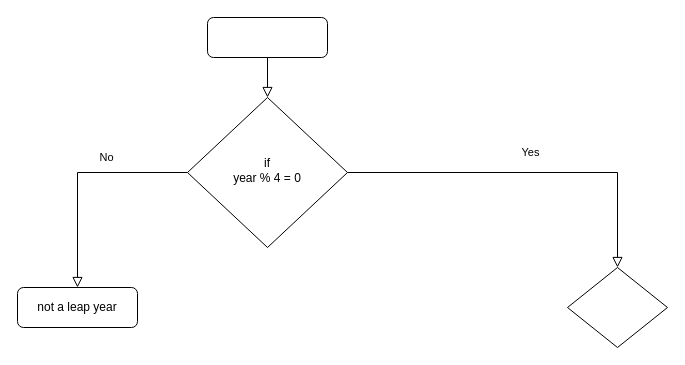
The diagram is 685 pixels wide and 365 high, and some of its shapes have lost their labels. The centre of each missing label's shape, as x and y in pixels:
"Bulb burned out?" belongs at (617,307).
"start" belongs at (267,37).
